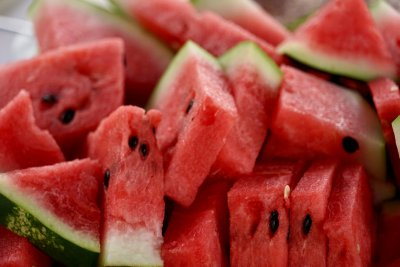Semangka: (90, 115, 179, 253), (148, 56, 233, 184), (219, 65, 304, 164)
